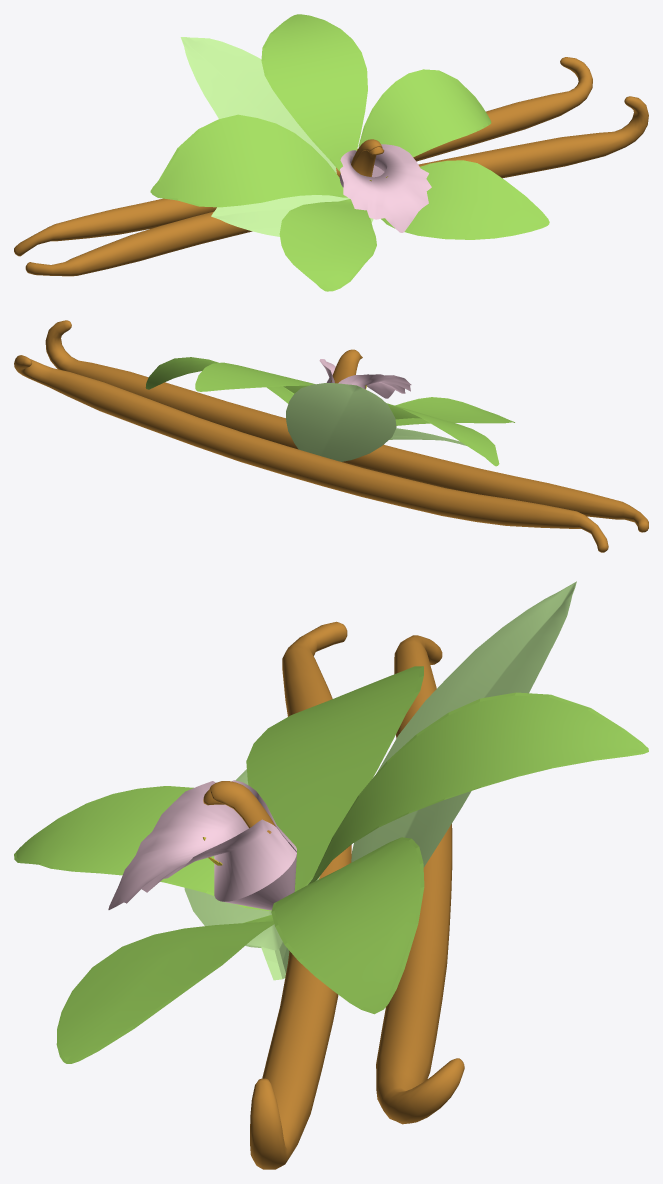
The model's file is vanilla_lp.glb.
3 renders of one model, top to bottom at view 1: azimuth 30°, elevation 25°; view 2: azimuth 150°, elevation 25°; view 3: azimuth 270°, elevation 25°, orthographic. The views are drawn at different scales.
Visible parts, largest first — view 1: LP_VanillaFlower; view 2: LP_VanillaFlower; view 3: LP_VanillaFlower.
Part boxes in pixels (x1,y1,x2,y2): LP_VanillaFlower: (14,14,648,291); LP_VanillaFlower: (14,320,648,552); LP_VanillaFlower: (14,581,648,1169).
Bounding box in the file's own units: 256 × 66 × 125.
